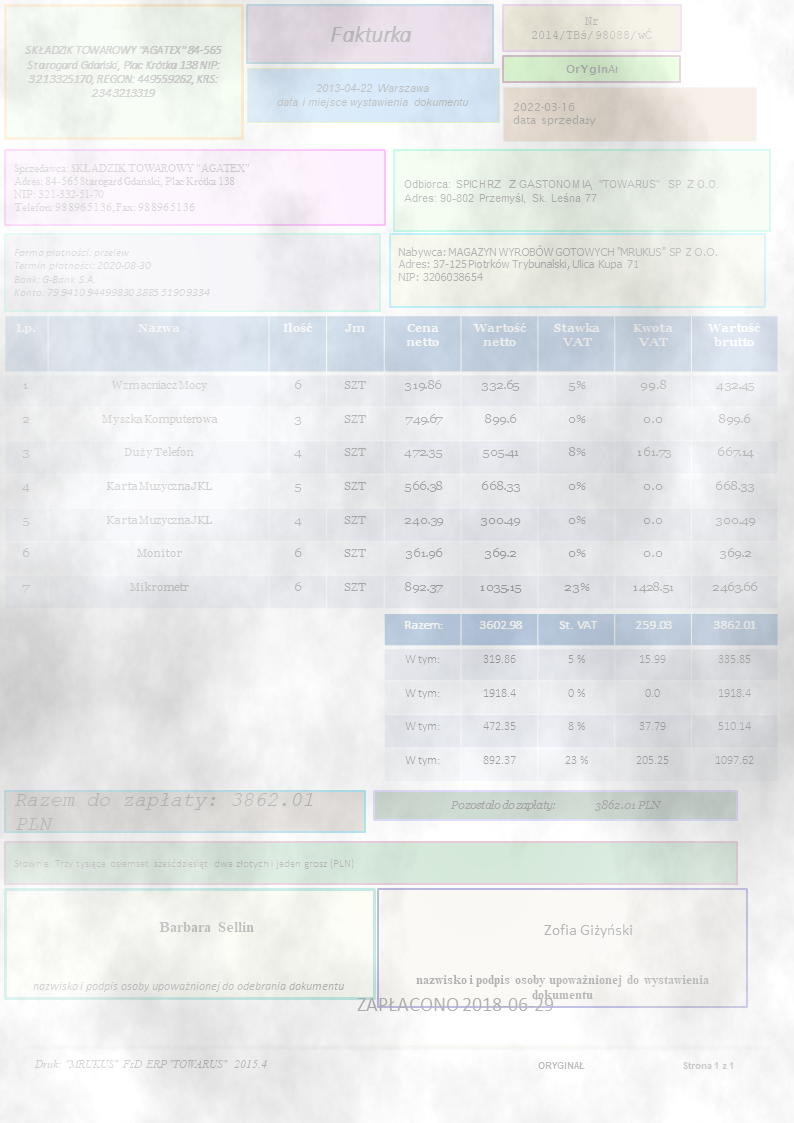Table: (3, 315, 778, 609), (383, 612, 778, 781)
TextBox: (10, 160, 250, 215), (395, 244, 717, 284), (21, 41, 223, 102), (13, 792, 314, 832), (11, 244, 213, 301), (402, 176, 723, 206), (413, 973, 711, 1001), (274, 80, 471, 110), (30, 978, 345, 995), (12, 857, 356, 871), (354, 996, 555, 1015), (528, 13, 655, 42), (33, 1056, 270, 1071), (447, 797, 665, 813), (536, 1058, 736, 1072), (510, 99, 599, 129), (327, 24, 413, 45), (541, 922, 635, 939), (157, 919, 254, 935), (563, 61, 622, 77)
